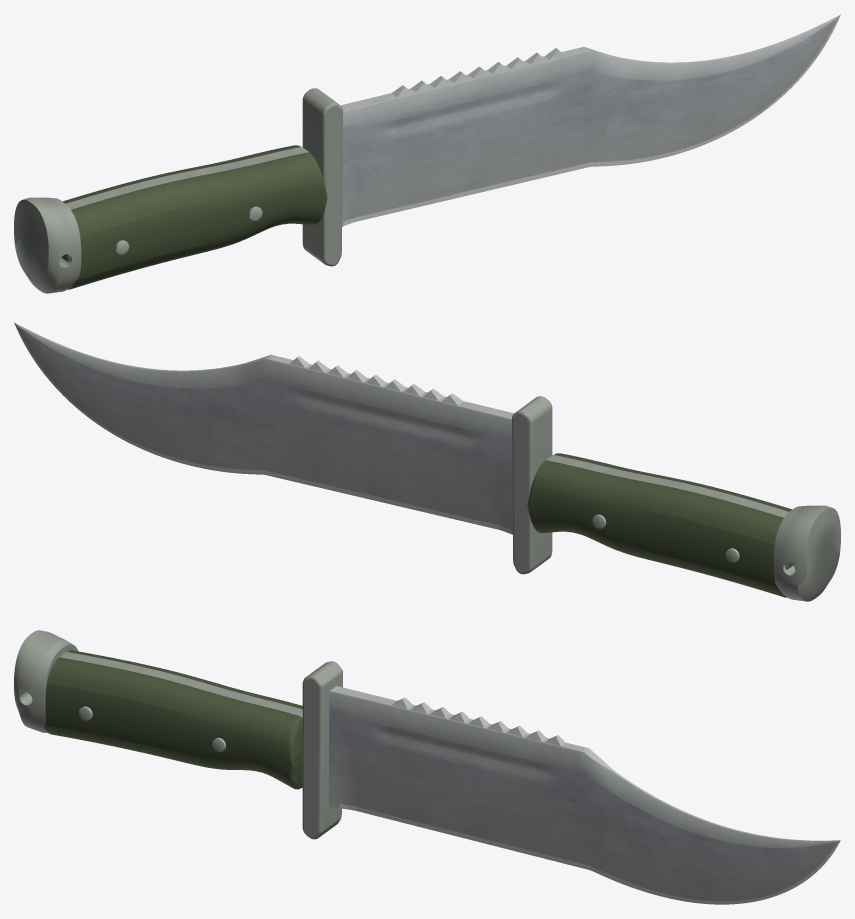
File: bowie.glb
3 renders of one model, top to bottom at view 1: azimuth 30°, elevation 25°; view 2: azimuth 150°, elevation 25°; view 3: azimuth 330°, elevation 25°, orthographic.
Parts seen in each view (by area): view 1: body; view 2: body; view 3: body.
Part boxes in pixels (x1=…): body: x1=14, y1=14, x2=840, y2=293; body: x1=14, y1=322, x2=840, y2=601; body: x1=14, y1=630, x2=840, y2=904.
Size of the model in its own units: 0.335 by 0.0645 by 0.0288.
5 materials, 5 textured.
